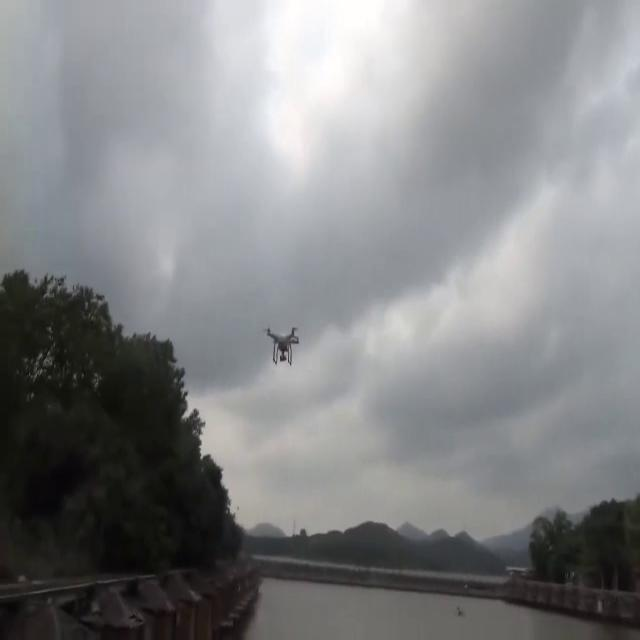Drons: (248, 311, 304, 375)
